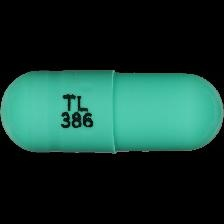63187-620: (0, 0, 224, 224)
